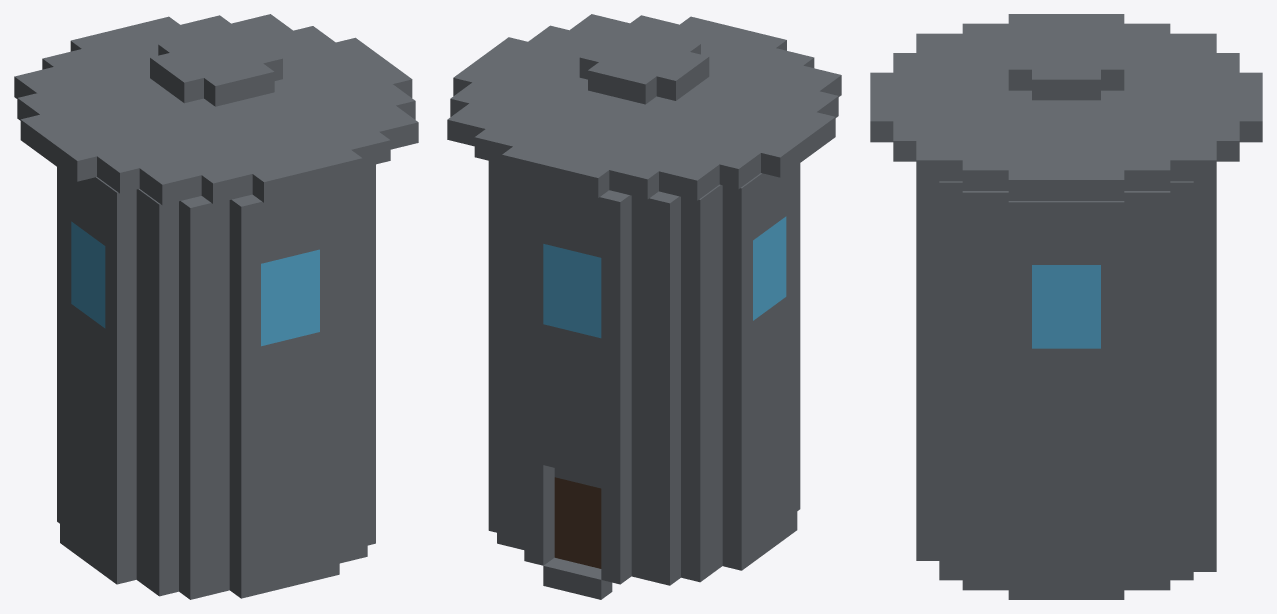
File: StoneTowerBase.obj
3 renders of one model, left to right at view 1: azimuth 30°, elevation 25°; view 2: azimuth 150°, elevation 25°; view 3: azimuth 270°, elevation 25°, orthographic. The views are drawn at different scales.
Bounding box in the file's own units: 1.7 × 2.4 × 1.7.
Materials: 1 (1 with a texture image).
